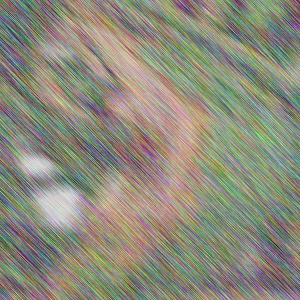Leaf_Blast: (101, 46, 279, 269)
